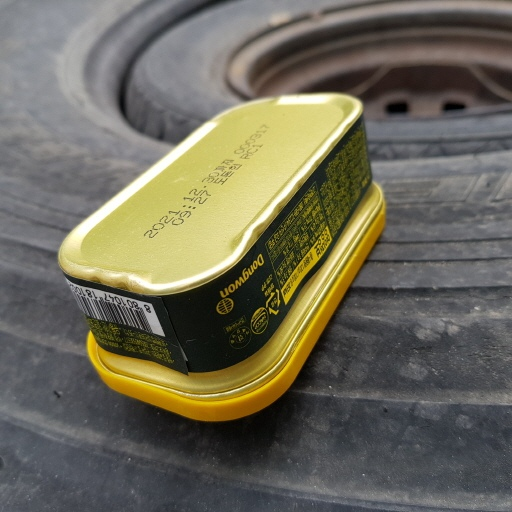Metal_2: (61, 94, 390, 426)
